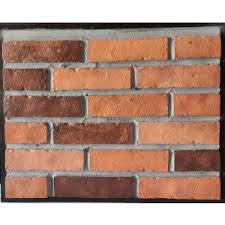brick: (90, 147, 169, 172), (135, 67, 219, 88), (139, 177, 219, 199), (54, 176, 135, 197), (89, 95, 169, 116), (139, 123, 218, 144), (6, 150, 85, 171), (4, 41, 82, 62), (53, 124, 133, 144), (4, 96, 83, 116), (89, 40, 167, 60), (54, 70, 130, 88), (175, 94, 220, 117), (176, 150, 220, 173), (3, 69, 48, 91), (5, 122, 47, 144), (5, 177, 48, 198), (176, 39, 221, 57)
